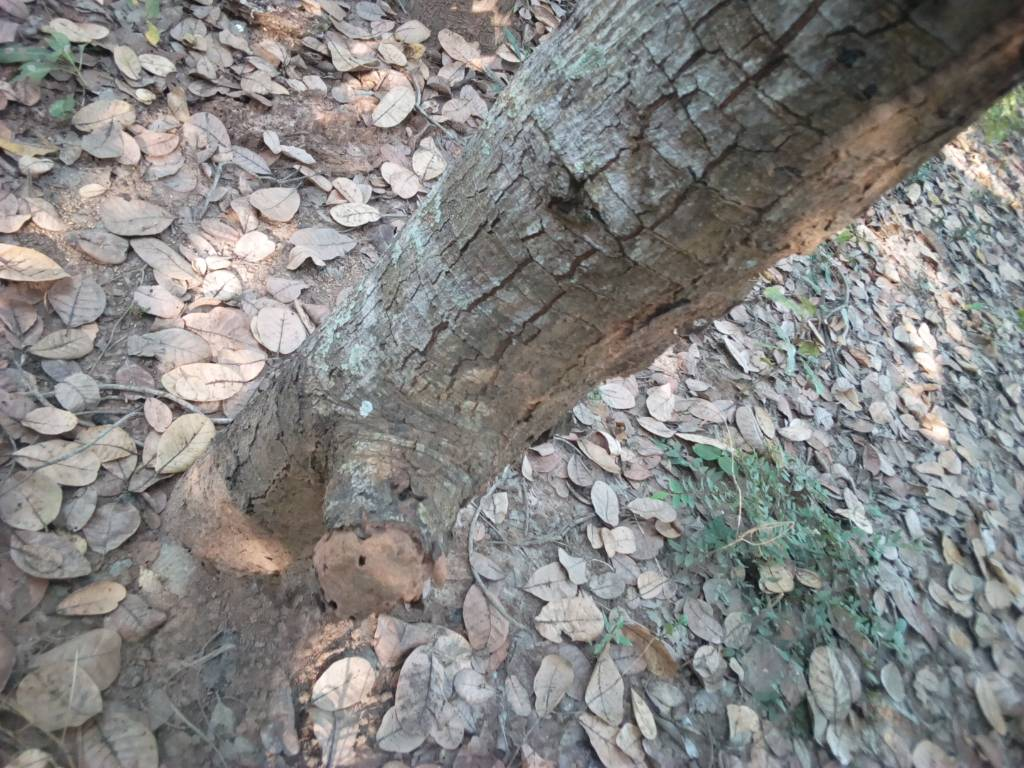Termites: (189, 422, 325, 562), (315, 522, 424, 613)
